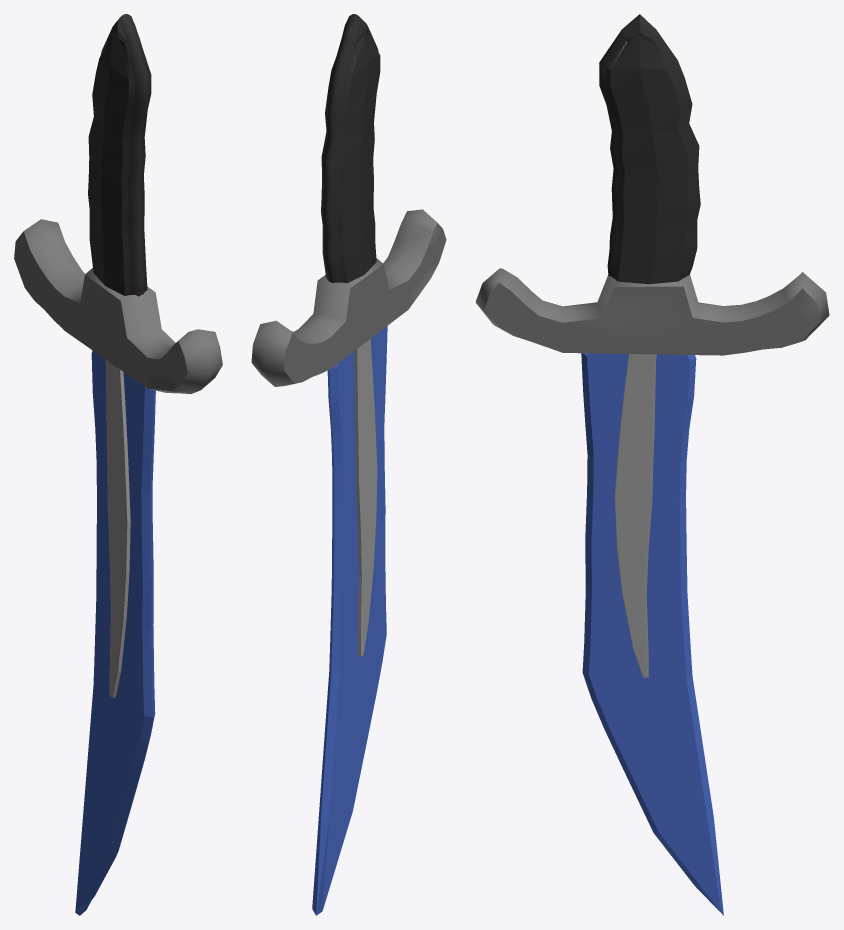
The model's file is Dagger.fbx.
3 renders of one model, left to right at view 1: azimuth 30°, elevation 25°; view 2: azimuth 150°, elevation 25°; view 3: azimuth 270°, elevation 25°, orthographic. The views are drawn at different scales.
Visible parts, largest first — view 1: Dagger_Handle001; view 2: Dagger_Handle001; view 3: Dagger_Handle001.
Part boxes in pixels (left/top/right/bottom): Dagger_Handle001: left=14, top=14, right=222, bottom=915; Dagger_Handle001: left=251, top=14, right=446, bottom=915; Dagger_Handle001: left=475, top=14, right=829, bottom=915.
Size of the model in its own units: 2.28 by 58.38 by 20.77.
